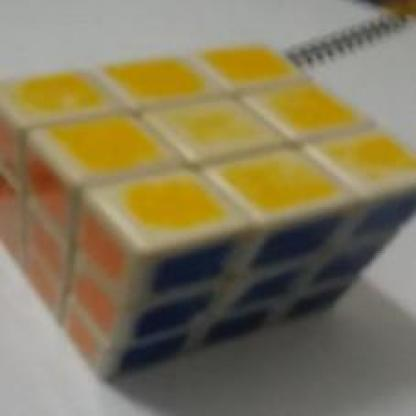cube: (4, 46, 413, 371)
